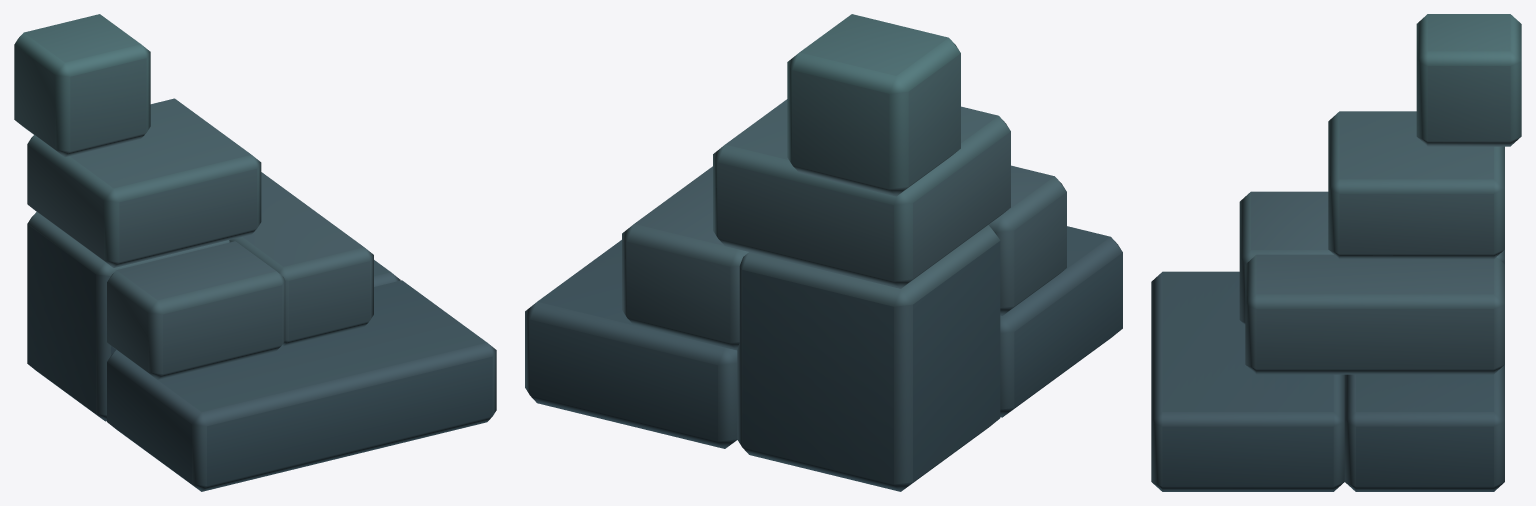
Rendered from stair_corner_convex.fbx.
3 views of the same model, side by side, from view 1: azimuth 30°, elevation 25°; view 2: azimuth 150°, elevation 25°; view 3: azimuth 270°, elevation 25° (orthographic). The views are drawn at different scales.
Visible parts, largest first — view 1: stair_corner_convex; view 2: stair_corner_convex; view 3: stair_corner_convex.
Boxes of the visible parts, left/top/right/bottom form: stair_corner_convex: left=14, top=14, right=496, bottom=491; stair_corner_convex: left=525, top=14, right=1122, bottom=491; stair_corner_convex: left=1151, top=14, right=1521, bottom=491.
Size of the model in its own units: 102 by 105 by 105.
